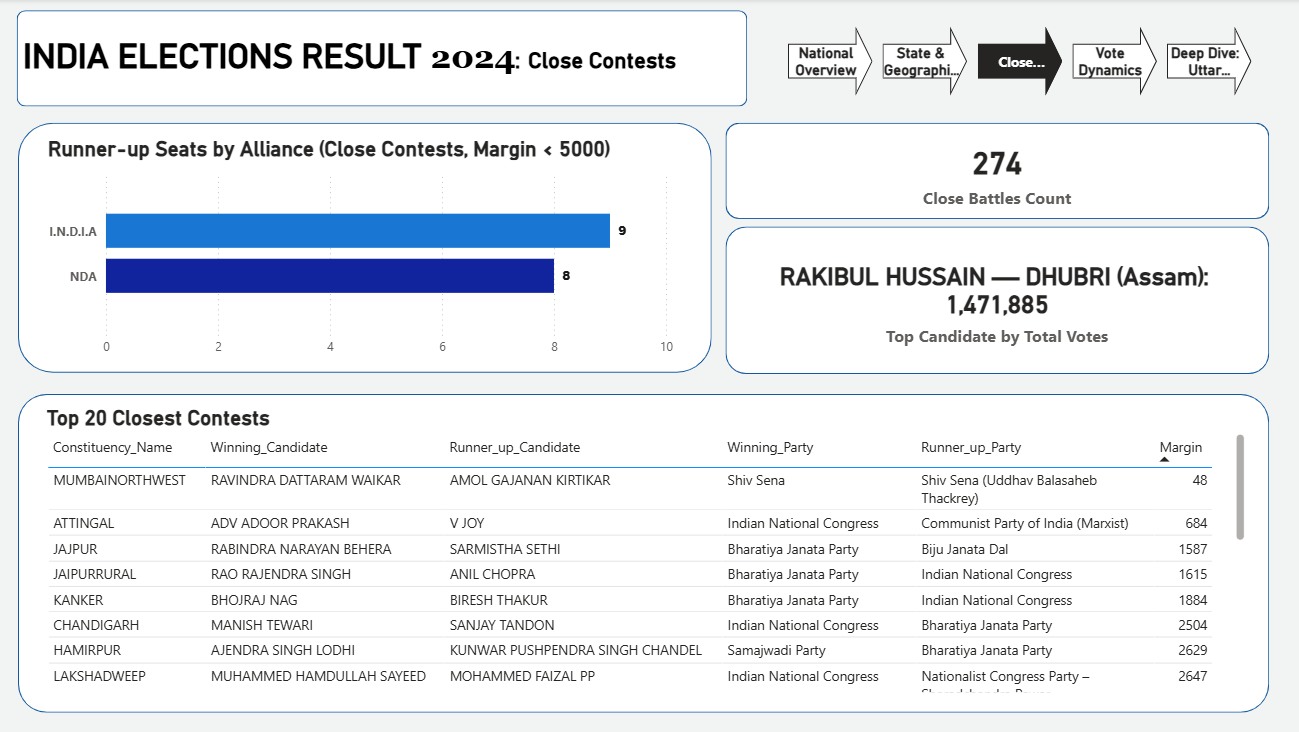

The page's visual inventory and layout, read from the dashboard file:
{"tool":"powerbi","page":{"name":"Close Contests & Key Candidates ","canvas":[1280,720],"ordinal":2},"visuals":[{"type":"shape","box":[18.9,10.8,717.1,94.5],"z":0},{"type":"shape","box":[19.6,387.7,1228.2,312.9],"z":1000},{"type":"tableEx","title":"Top 20 Closest Contests","fields":{"Values":["Top 20 Closest Contests.Constituency_Name","Top 20 Closest Contests.Winning_Candidate","Top 20 Closest Contests.Runner_up_Candidate","Top 20 Closest Contests.Winning_Party","Top 20 Closest Contests.Runner_up_Party","Top 20 Closest Contests.Margin"]},"box":[43.4,399.1,1186.1,286.3],"z":2000},{"type":"shape","box":[19.6,121.5,681,245.4],"z":3000},{"type":"clusteredBarChart","title":"Runner-up Seats by Alliance (Close Contests, Margin < 5000)","fields":{"Category":["vw_constituency_analysis.party_alliance"],"Y":["vw_constituency_analysis.RunnerUps_CloseContests"]},"box":[43.8,135.4,623.7,224.3],"z":4000},{"type":"shape","box":[714.1,223.3,533.7,144.8],"z":5000},{"type":"shape","box":[714.1,121.5,533.7,94.5],"z":6000},{"type":"card","fields":{"Values":["vw_constituency_analysis.Close Battles Count"]},"box":[842.9,116.6,276.1,106.7],"z":7000},{"type":"card","fields":{"Values":["vw_constituency_analysis.Top_Candidate_Display"]},"box":[714.1,241.7,533.7,108],"z":8000},{"type":"pageNavigator","box":[775.2,27,456.5,68.9],"z":9000},{"type":"textbox","box":[19.6,31.9,838,57.7],"z":10000}]}

Visuals, with their boxes in screenshot pixels (x1, y1, x2, y2), scaled from the page's 1280x720 canvas onto the 1299x732 screenshot:
shape: <box>19,11,747,107</box>
shape: <box>20,394,1266,712</box>
"Top 20 Closest Contests" tableEx: <box>44,406,1248,697</box>
shape: <box>20,124,711,373</box>
"Runner-up Seats by Alliance (Close Contests, Margin < 5000)" clusteredBarChart: <box>44,138,677,366</box>
shape: <box>725,227,1266,374</box>
shape: <box>725,124,1266,220</box>
card - vw_constituency_analysis.Close Battles Count: <box>855,119,1136,227</box>
card - vw_constituency_analysis.Top_Candidate_Display: <box>725,246,1266,356</box>
pageNavigator: <box>787,27,1250,97</box>
textbox: <box>20,32,870,91</box>
